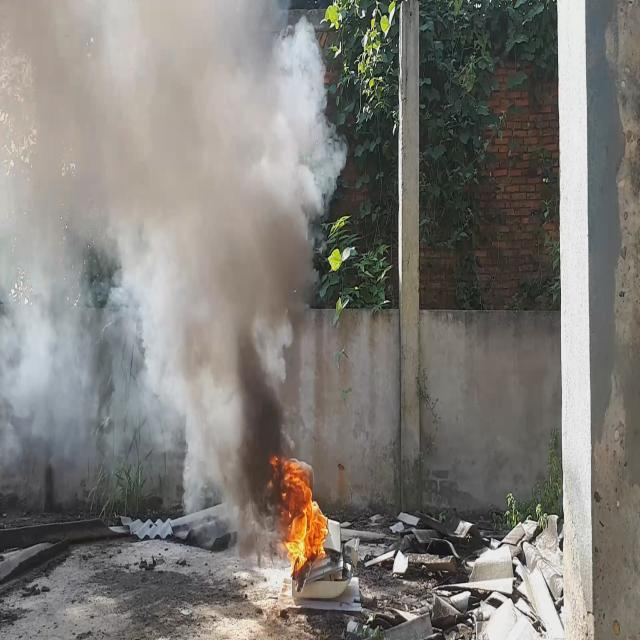Fire: (267, 447, 330, 578)
Smoke: (0, 0, 348, 564)
